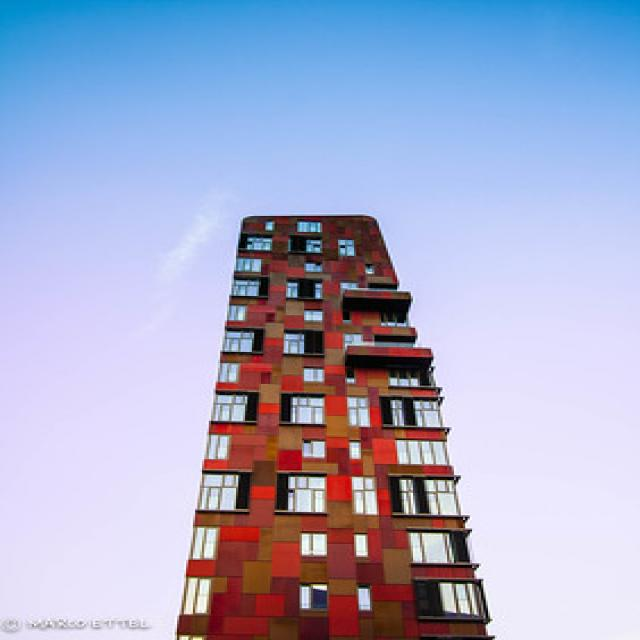Normal_building: (169, 208, 503, 640)
